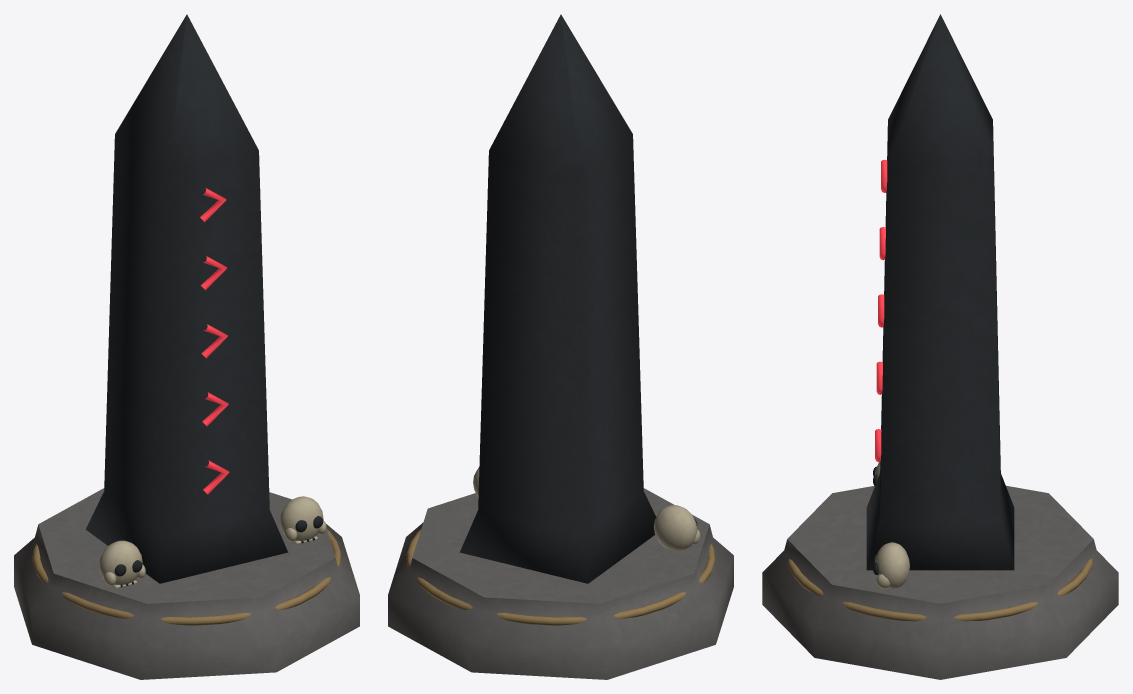
Rendered from blood_obelisk.glb.
The picture shows the model from 3 angles, left to right: view 1: azimuth 30°, elevation 25°; view 2: azimuth 150°, elevation 25°; view 3: azimuth 270°, elevation 25°; orthographic projection.
Parts seen in each view (by area): view 1: blood_obelisk; view 2: blood_obelisk; view 3: blood_obelisk.
Part boxes in pixels (bbox=[...]): blood_obelisk: bbox=[14, 14, 359, 679]; blood_obelisk: bbox=[388, 14, 733, 679]; blood_obelisk: bbox=[762, 14, 1118, 679].
Size of the model in its own units: 0.96 by 1.75 by 0.96.
5 materials, 4 textured.
